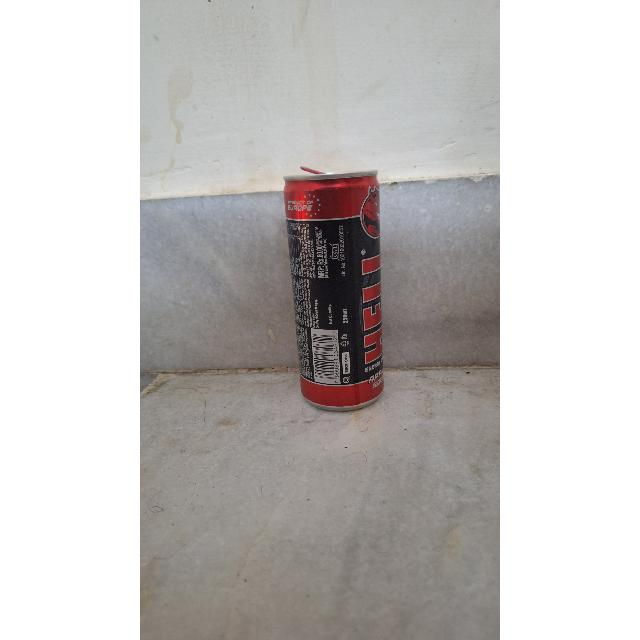Hell Apple: (282, 165, 394, 411)
